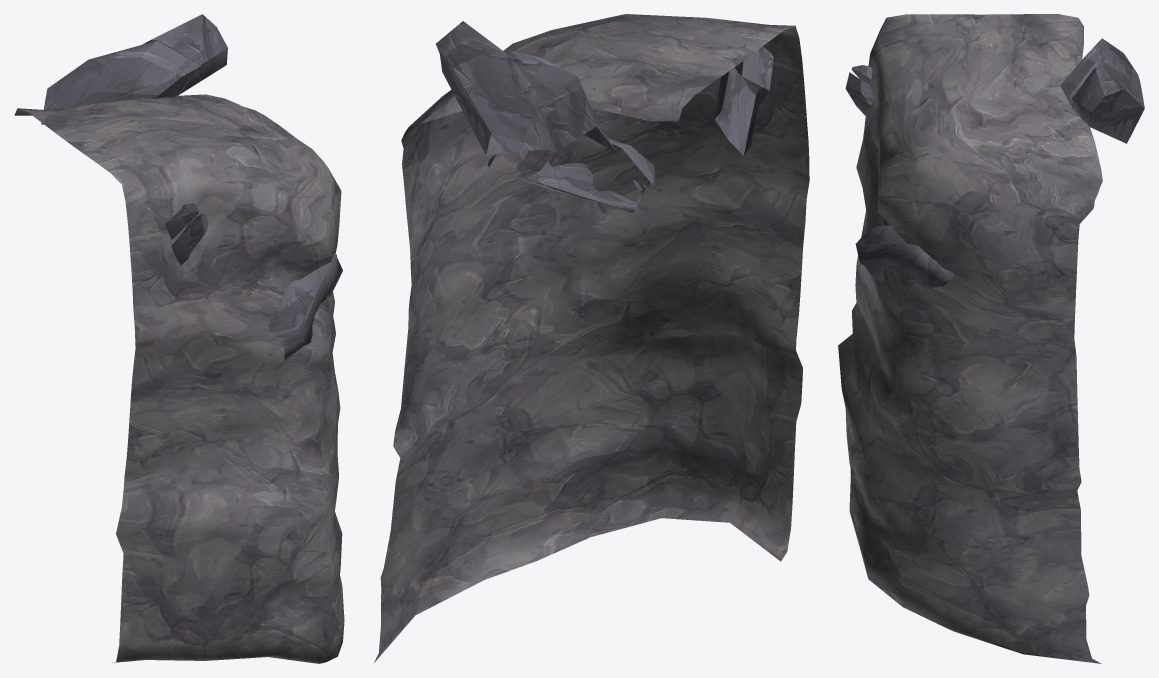
File: GroundDeadEnd1.fbx
3 views of the same model, side by side, from view 1: azimuth 30°, elevation 25°; view 2: azimuth 150°, elevation 25°; view 3: azimuth 270°, elevation 25° (orthographic). The views are drawn at different scales.
Parts seen in each view (by area): view 1: GroundDeadEnd1; view 2: GroundDeadEnd1; view 3: GroundDeadEnd1.
Part boxes in pixels (x1,y1,x2,y2): GroundDeadEnd1: [14, 14, 344, 663]; GroundDeadEnd1: [374, 14, 809, 662]; GroundDeadEnd1: [838, 14, 1144, 663].
Size of the model in its own units: 4.31 by 8.89 by 4.41.
